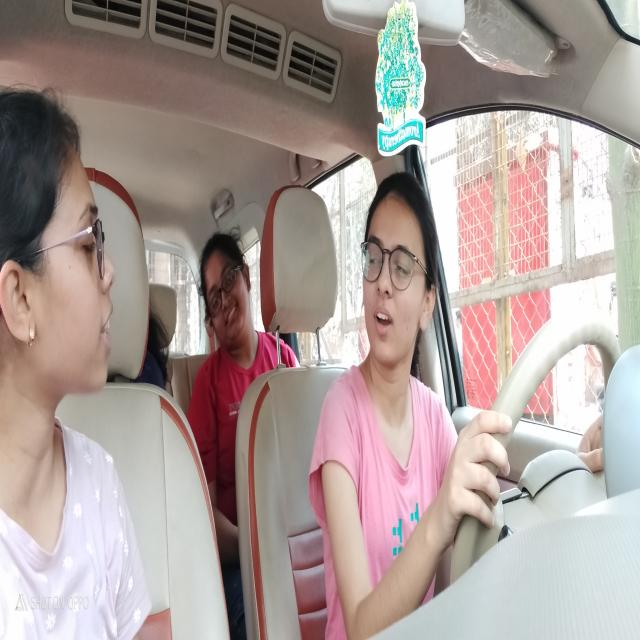LeftRight: (352, 155, 439, 408)
person: (0, 90, 123, 437), (195, 234, 256, 350)
talking: (369, 299, 395, 341), (96, 306, 115, 360)
